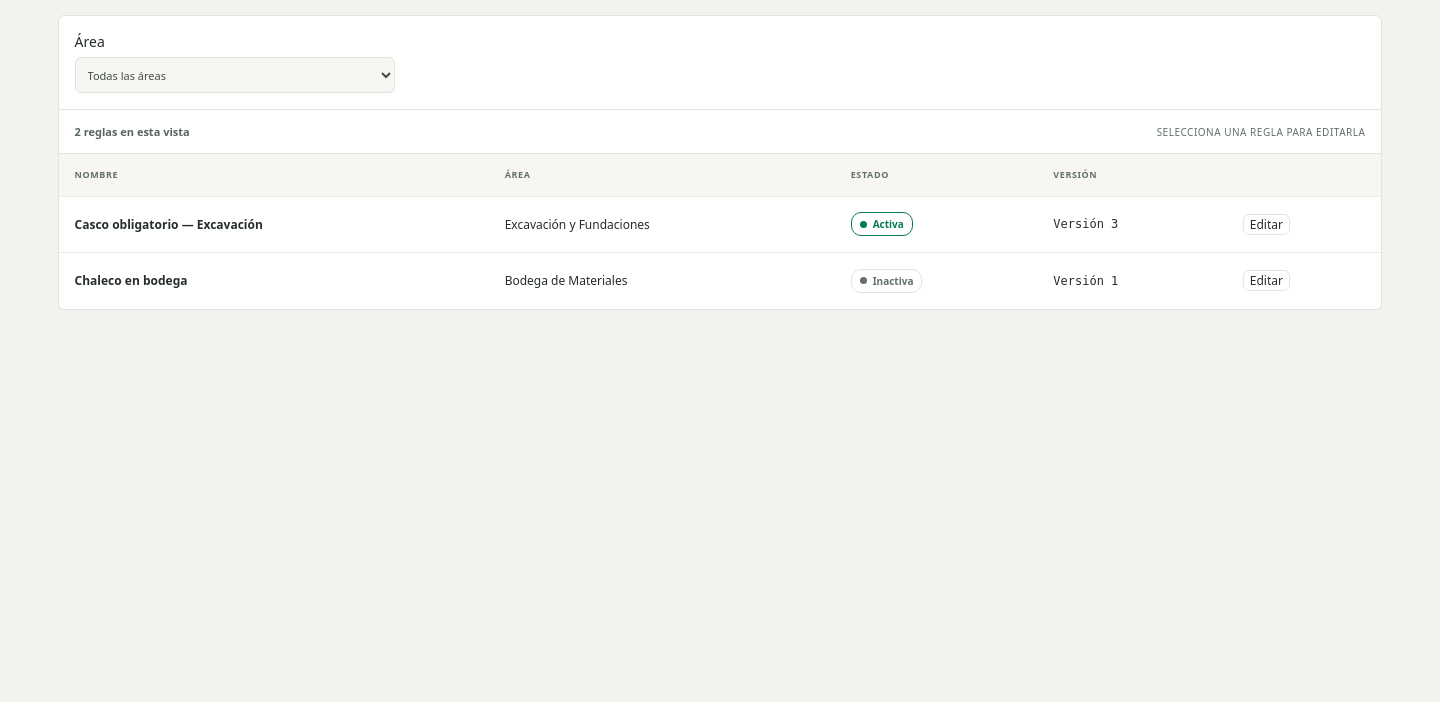
simula los cambios actuales sin guardar una nueva versión
This screenshot has width=1440, height=702.
Expected: the table named "Listado de reglas de seguridad" is shown, [59, 154, 1381, 308]
Click the button "Editar" in the row of "Casco obligatorio — Excavación".
click(1266, 224)  # box [1243, 214, 1290, 235]
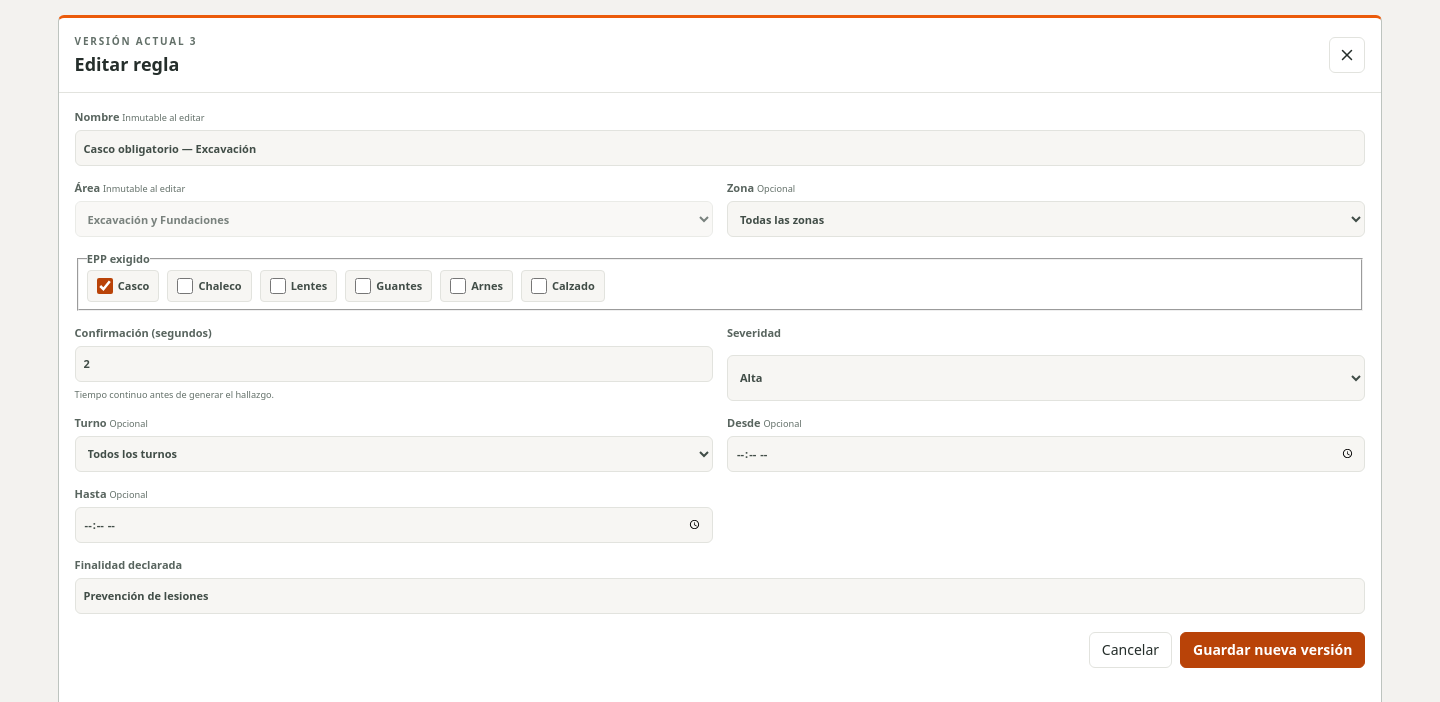
Replace the text in the field labelled "Finalidad declarada" with "Simulación sin guardar" at point(720, 596), box [75, 578, 1365, 614]
(page scrolled)
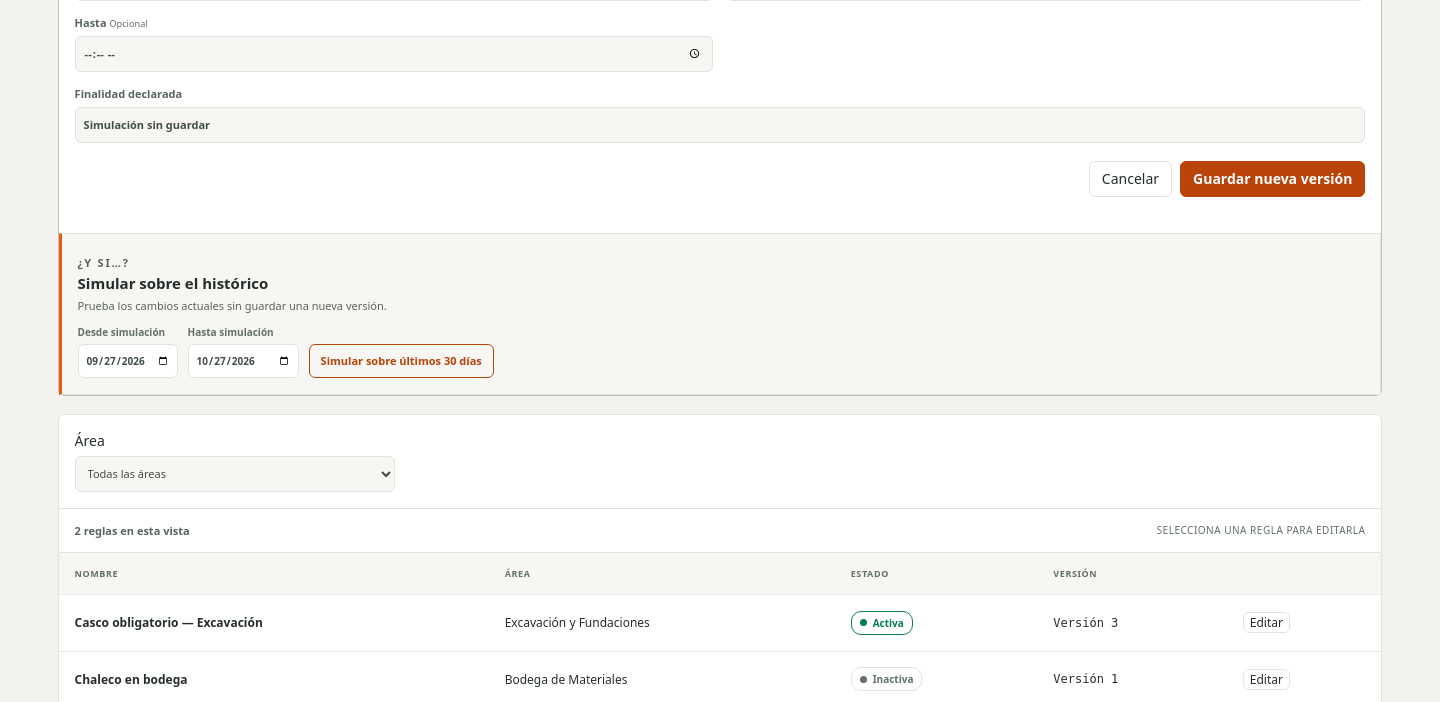
Click the button "Simular sobre últimos 30 días".
click(401, 361)  # box [309, 344, 494, 378]
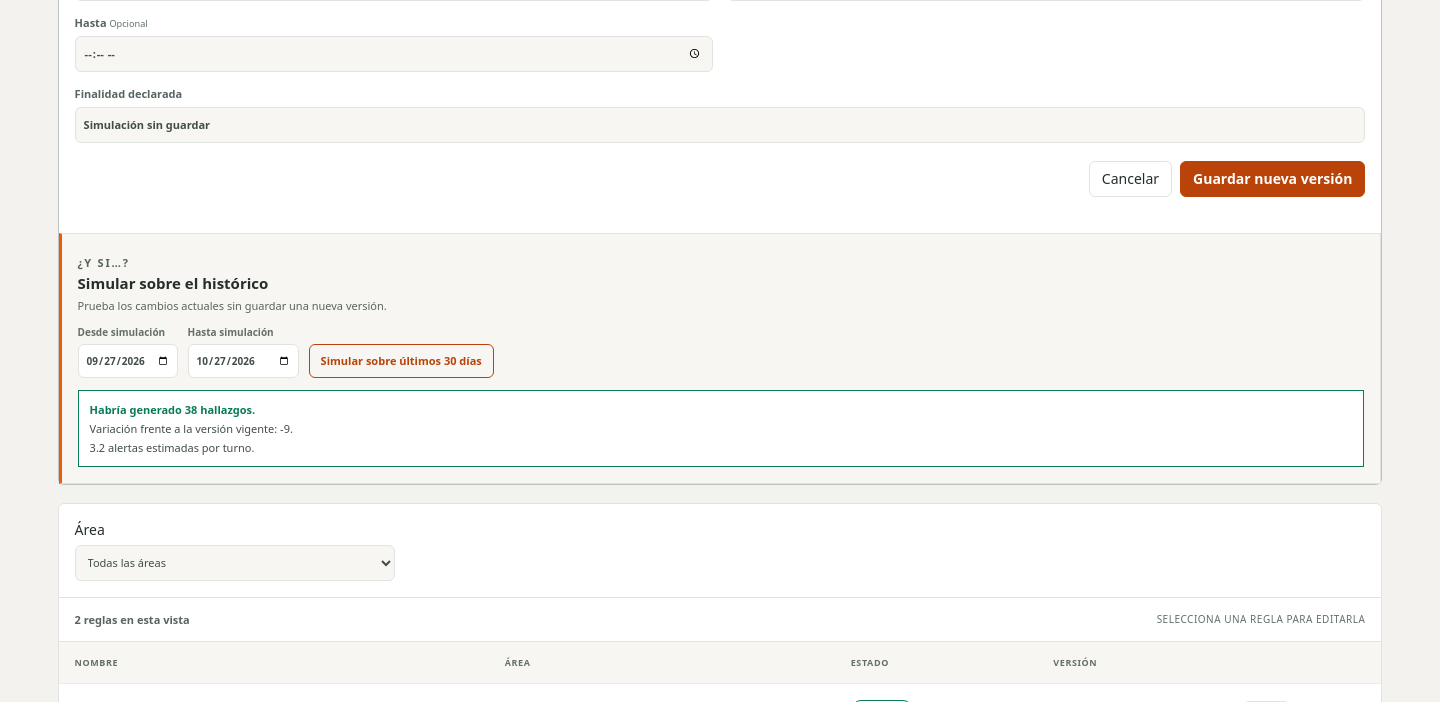
Expected: the text "Habría generado 38 hallazgos." is shown, [90, 402, 255, 417]
Expected: the text "Variación frente a la versión vigente: -9." is shown, [90, 421, 293, 436]
